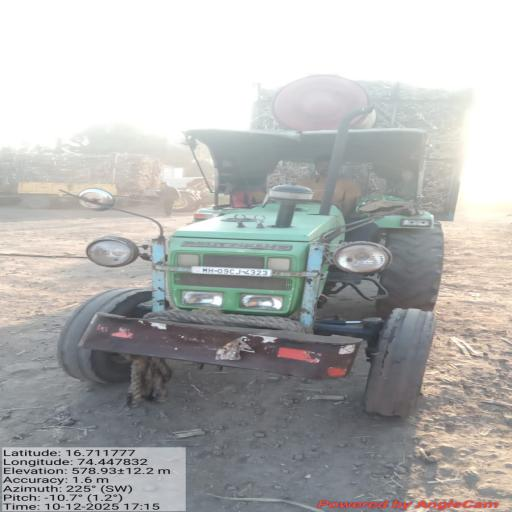number_plate: (192, 266, 272, 276)
